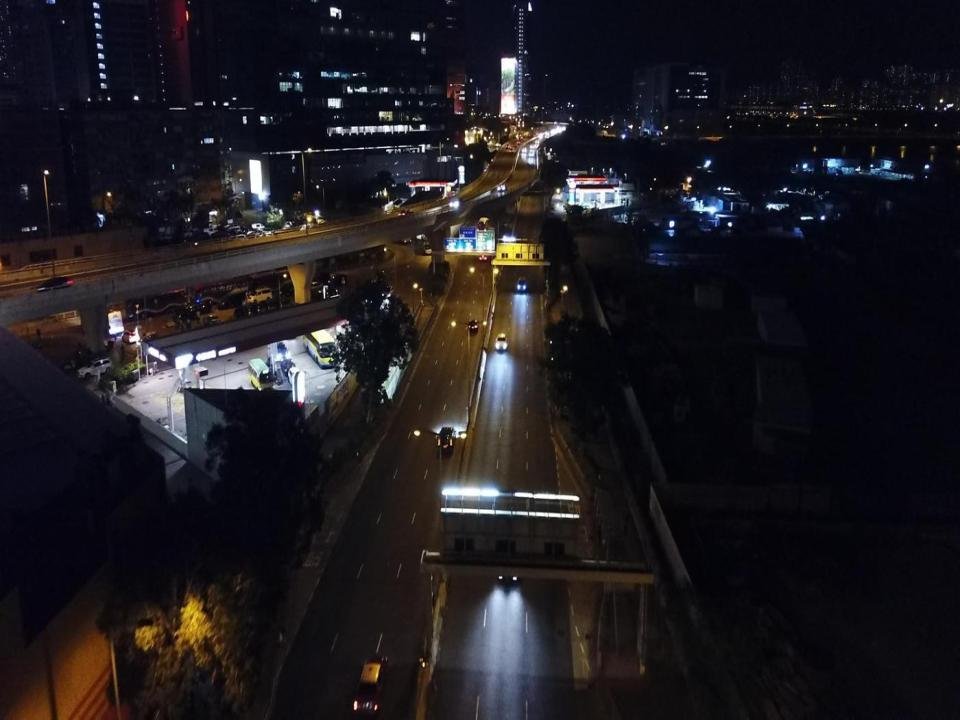bus: (303, 322, 337, 367), (79, 306, 124, 335), (248, 357, 274, 393), (380, 224, 412, 244), (423, 228, 435, 255), (477, 216, 488, 235)
car: (353, 651, 388, 717), (495, 521, 521, 585), (76, 358, 114, 380), (38, 277, 73, 295), (280, 357, 297, 376), (121, 329, 140, 342), (496, 332, 507, 352), (277, 341, 289, 359), (381, 284, 394, 298), (204, 314, 220, 325), (479, 243, 488, 260), (398, 209, 415, 217), (449, 198, 464, 207), (469, 319, 479, 332), (497, 183, 507, 192), (528, 150, 535, 157), (521, 147, 527, 153), (530, 144, 536, 149), (526, 132, 531, 138), (535, 139, 540, 144), (509, 149, 514, 153), (506, 143, 510, 148), (516, 140, 520, 144)
van: (438, 424, 455, 454), (218, 295, 242, 309), (248, 289, 272, 302), (288, 367, 304, 386), (178, 306, 198, 321), (280, 282, 300, 295), (194, 300, 212, 314), (306, 282, 323, 295), (517, 276, 527, 292), (250, 222, 266, 231), (182, 229, 198, 238), (156, 233, 173, 241), (202, 228, 218, 236)
